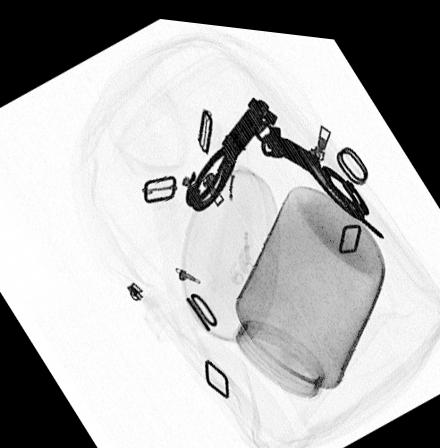HandCuffs: (186, 92, 368, 210)
